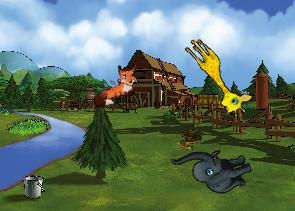elephant: (170, 128, 257, 209)
fox: (85, 60, 145, 110)
giraffe: (174, 34, 257, 121)
